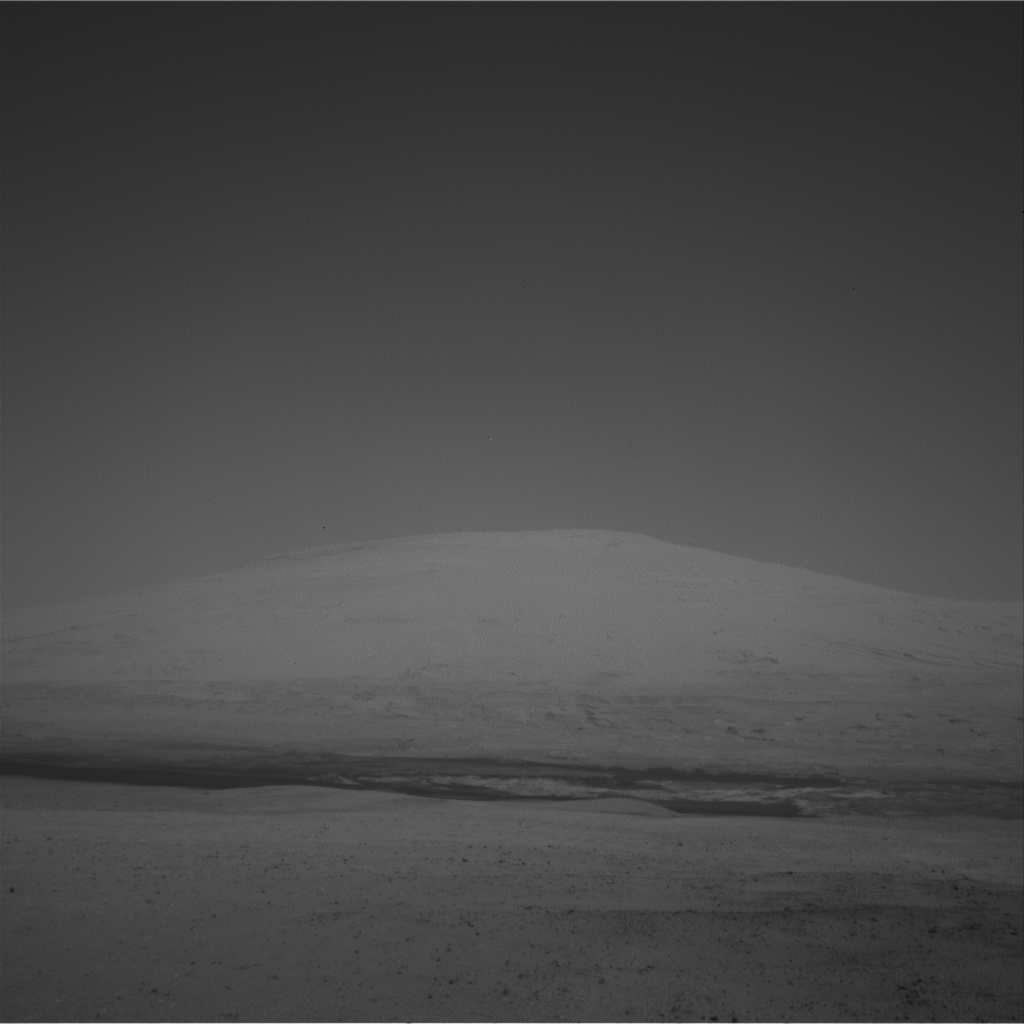soil: (4, 920, 1019, 1021)
